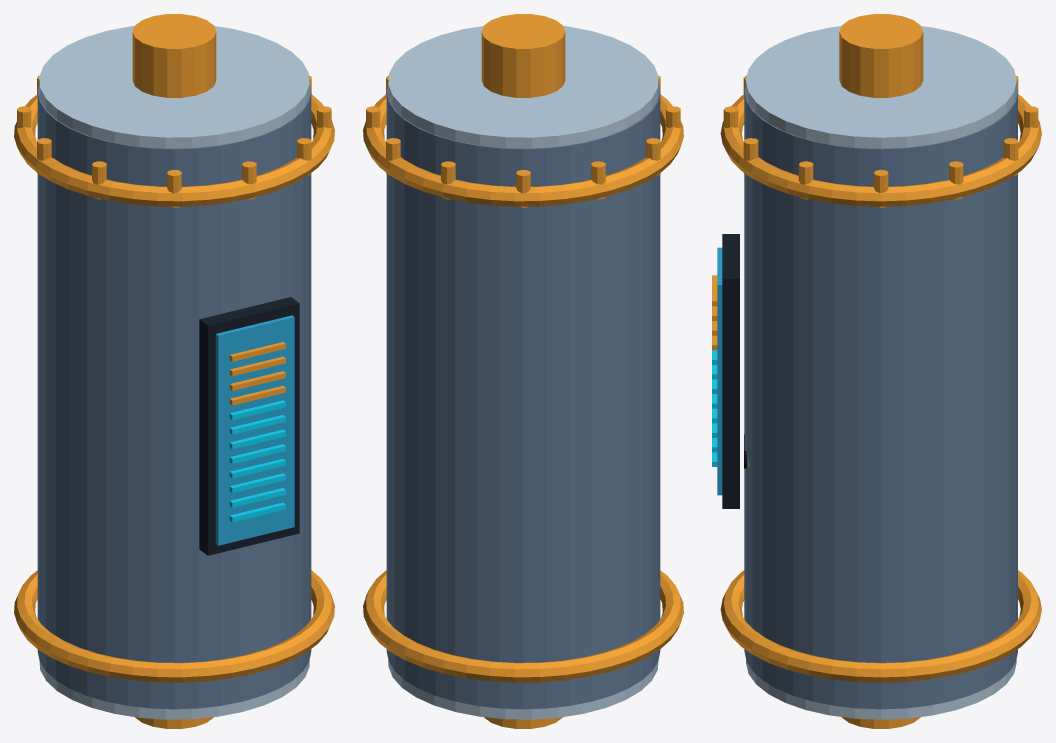
Rendered from 69_L89_ShelterOxygenBufferInterface.fbx.
The picture shows the model from 3 angles, left to right: view 1: azimuth 30°, elevation 25°; view 2: azimuth 150°, elevation 25°; view 3: azimuth 270°, elevation 25°; orthographic projection.
Visible parts, largest first — view 1: L87_ShelterOxygenBufferInterface_Part_0000, L87_ShelterOxygenBufferInterface_Part_0002, L87_ShelterOxygenBufferInterface_Part_0001, L87_ShelterOxygenBufferInterface_Part_0004, L87_ShelterOxygenBufferInterface_Part_0003, L87_ShelterOxygenBufferInterface_Part_0005, L87_ShelterOxygenBufferInterface_Part_0006; view 2: L87_ShelterOxygenBufferInterface_Part_0000, L87_ShelterOxygenBufferInterface_Part_0002, L87_ShelterOxygenBufferInterface_Part_0001; view 3: L87_ShelterOxygenBufferInterface_Part_0000, L87_ShelterOxygenBufferInterface_Part_0002, L87_ShelterOxygenBufferInterface_Part_0001, L87_ShelterOxygenBufferInterface_Part_0003, L87_ShelterOxygenBufferInterface_Part_0004, L87_ShelterOxygenBufferInterface_Part_0005.
Part boxes in pixels (x1,y1,x2,y2): L87_ShelterOxygenBufferInterface_Part_0000: [37, 84, 311, 709]; L87_ShelterOxygenBufferInterface_Part_0002: [14, 14, 334, 728]; L87_ShelterOxygenBufferInterface_Part_0001: [39, 26, 309, 719]; L87_ShelterOxygenBufferInterface_Part_0004: [215, 315, 294, 545]; L87_ShelterOxygenBufferInterface_Part_0003: [199, 297, 299, 555]; L87_ShelterOxygenBufferInterface_Part_0005: [229, 400, 285, 522]; L87_ShelterOxygenBufferInterface_Part_0006: [229, 342, 285, 405]; L87_ShelterOxygenBufferInterface_Part_0000: [386, 84, 660, 709]; L87_ShelterOxygenBufferInterface_Part_0002: [363, 14, 683, 728]; L87_ShelterOxygenBufferInterface_Part_0001: [388, 26, 658, 719]; L87_ShelterOxygenBufferInterface_Part_0000: [744, 85, 1017, 709]; L87_ShelterOxygenBufferInterface_Part_0002: [720, 14, 1041, 728]; L87_ShelterOxygenBufferInterface_Part_0001: [746, 26, 1016, 719]; L87_ShelterOxygenBufferInterface_Part_0003: [722, 234, 739, 508]; L87_ShelterOxygenBufferInterface_Part_0004: [717, 247, 722, 495]; L87_ShelterOxygenBufferInterface_Part_0005: [712, 350, 717, 466].
Size of the model in its own units: 146 by 340 by 149.
